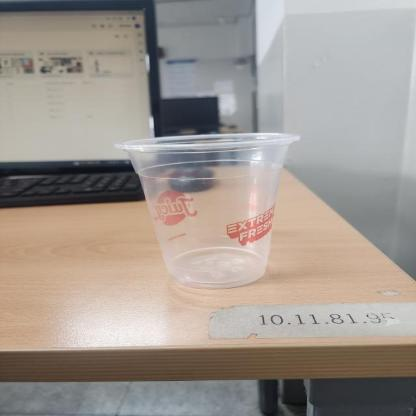Plastic Cup: (113, 132, 300, 288)
